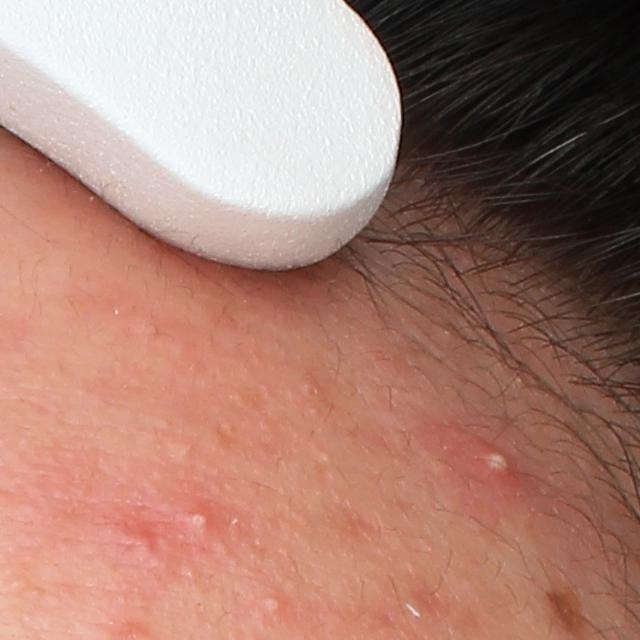papule: (108, 515, 162, 560)
pustule: (454, 431, 528, 488), (169, 495, 224, 537)
